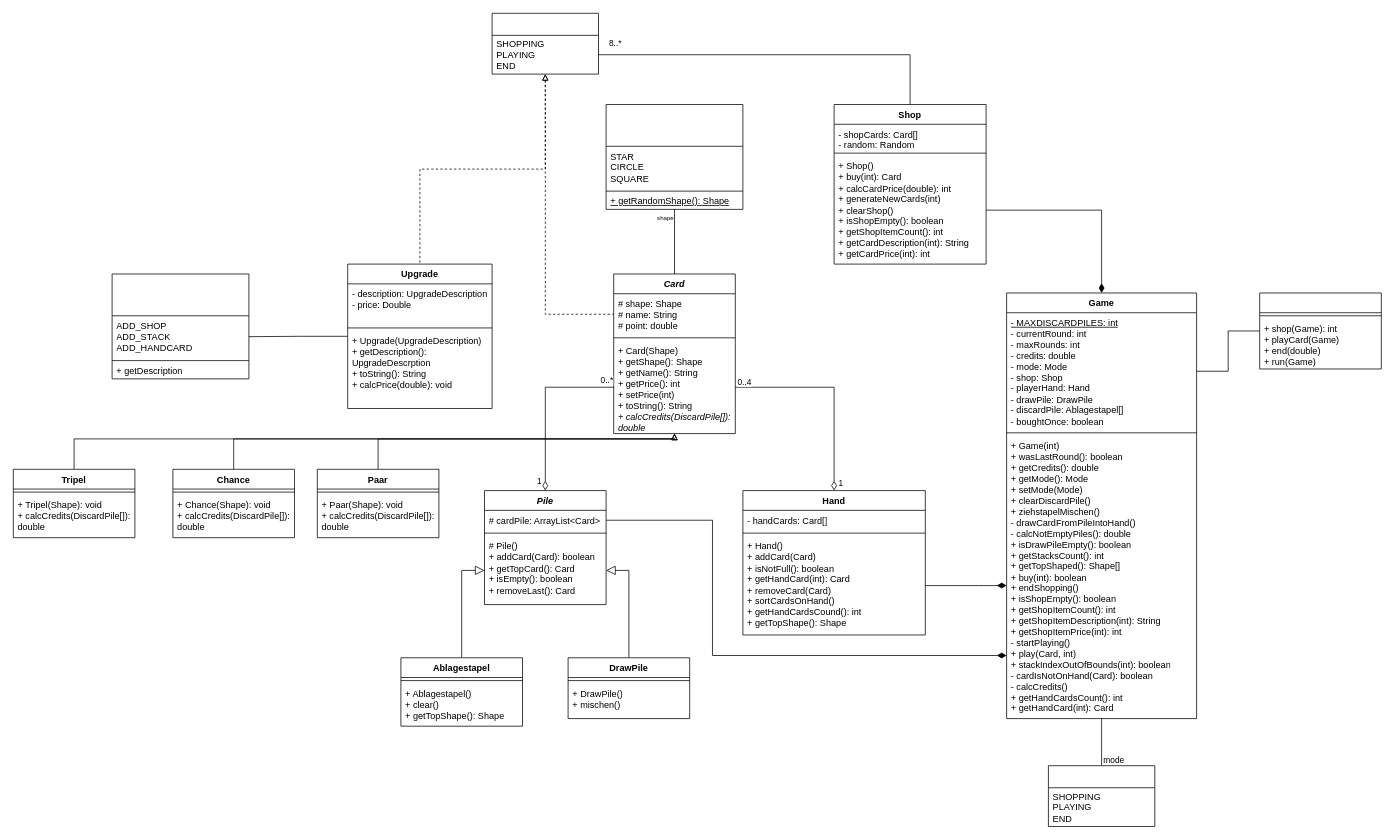
This 1395x840 diagram has some shape labels left out. Here are the shapes that lost their labels. From the top down, the box of each, then its label:
(491, 13, 598, 74): <<interface>> Item
(605, 104, 743, 209): <<enumeration>> Shape
(111, 273, 249, 379): <<enumeration>> UpgradeDescription
(1259, 292, 1381, 369): Player
(1048, 765, 1155, 826): <<enumeration>> Mode
